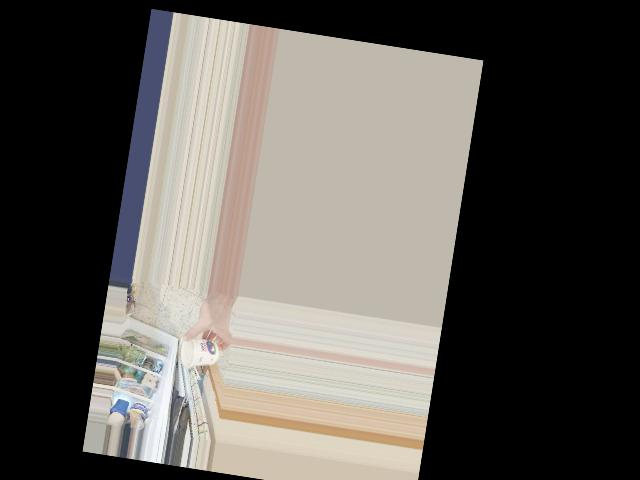cotage: (178, 331, 222, 372)
